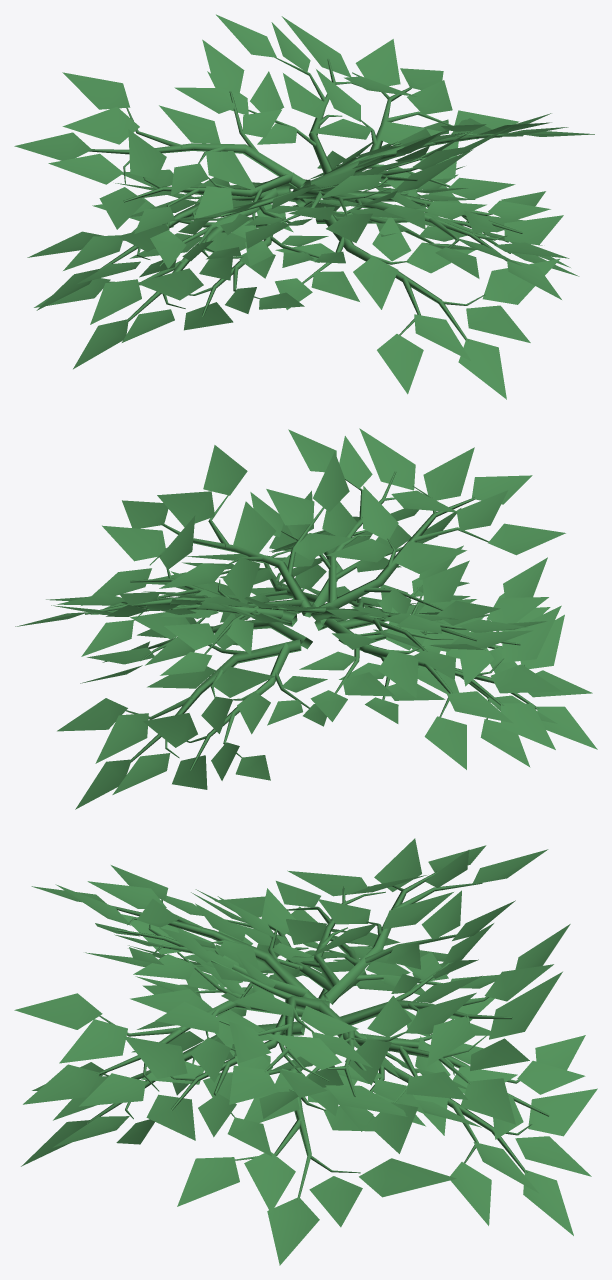
The model's file is bush3.fbx.
3 renders of one model, top to bottom at view 1: azimuth 30°, elevation 25°; view 2: azimuth 150°, elevation 25°; view 3: azimuth 270°, elevation 25°, orthographic. The views are drawn at different scales.
Parts seen in each view (by area): view 1: bush2; view 2: bush2; view 3: bush2.
Part boxes in pixels (left/top/right/bottom): bush2: left=14, top=14, right=594, bottom=399; bush2: left=15, top=428, right=597, bottom=809; bush2: left=14, top=838, right=597, bottom=1265.
Size of the model in its own units: 6.18 by 2.91 by 5.68.
